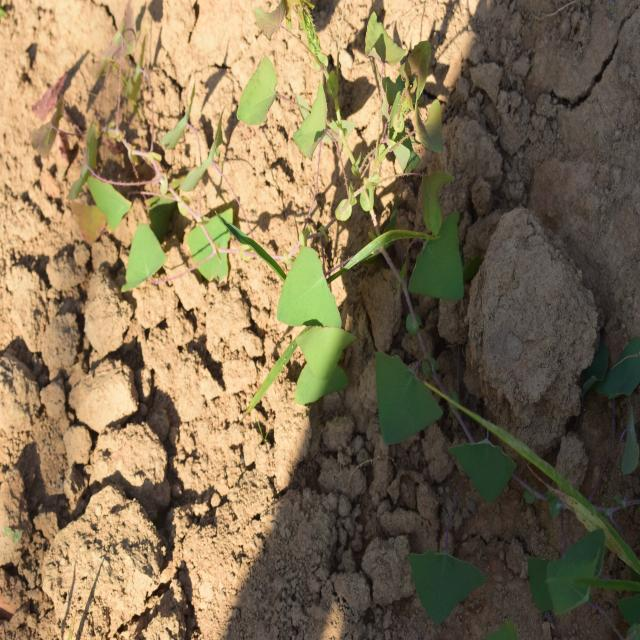Asiatic_Smartweed: (367, 324, 521, 516), (268, 239, 369, 421)
